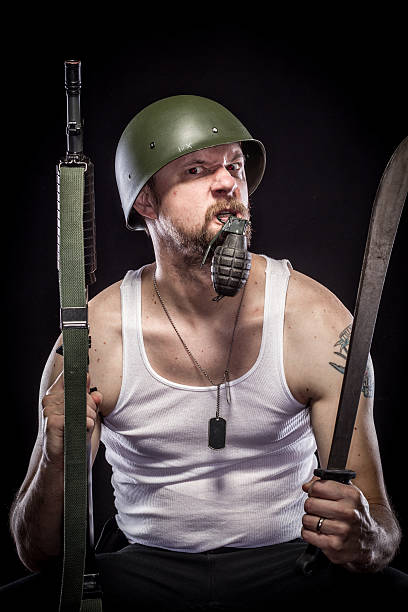e1: (201, 211, 251, 298)
